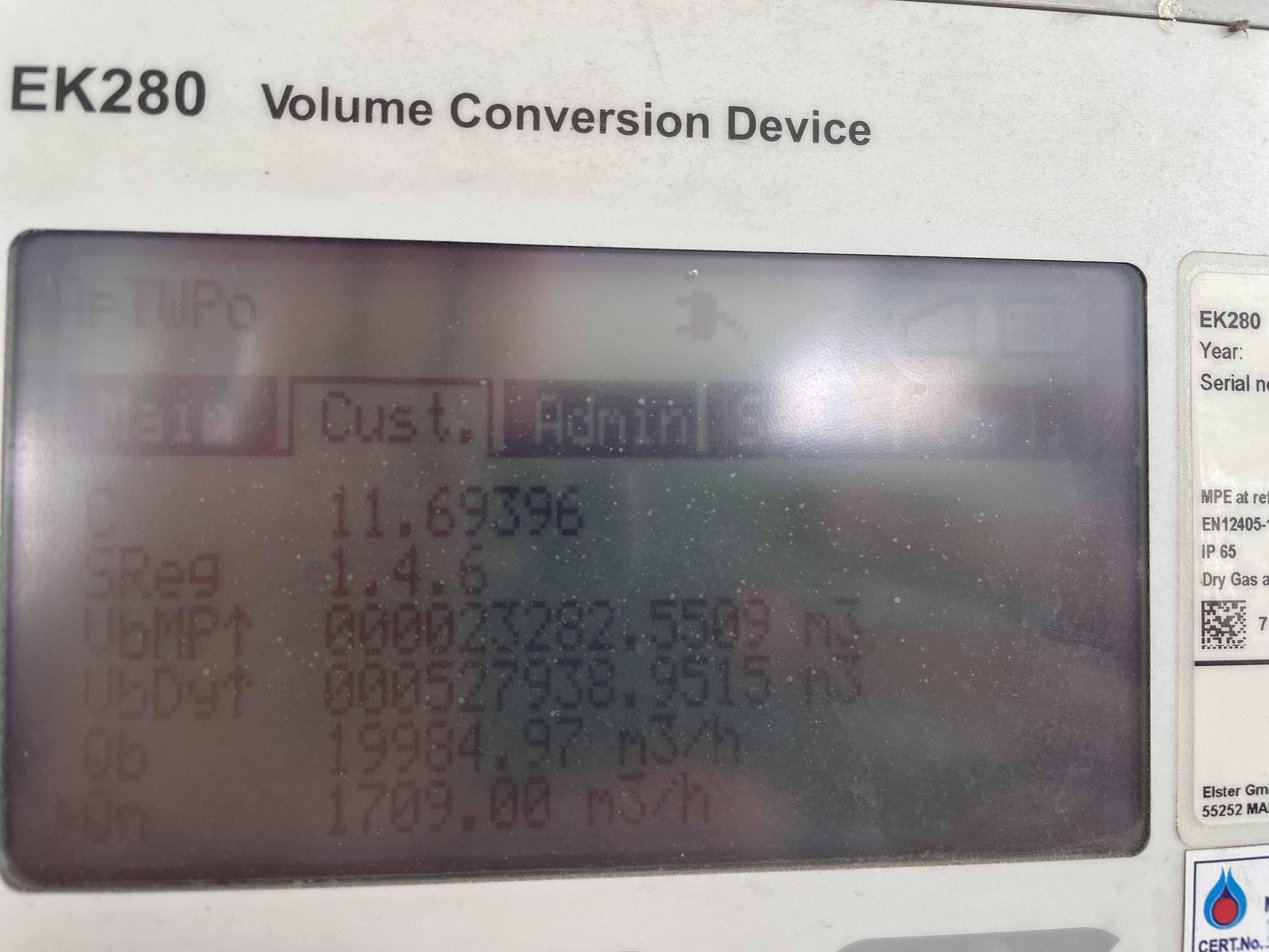digital_screen: (7, 232, 1156, 905)
